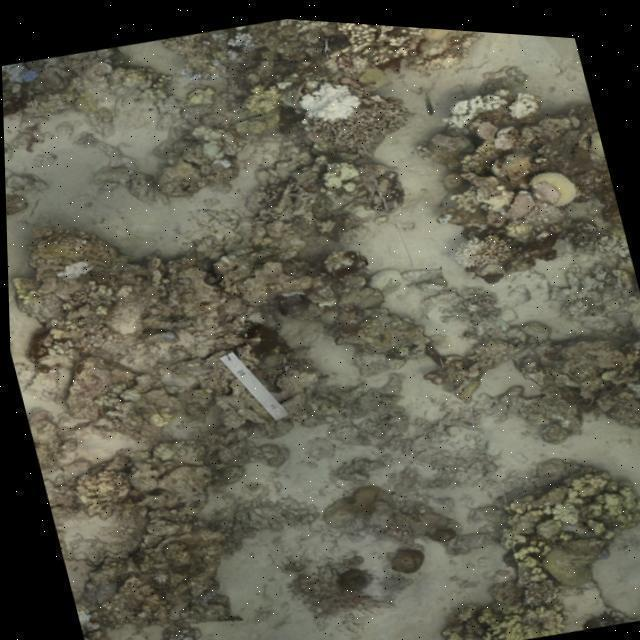Bleached Coral: (286, 62, 371, 137), (427, 79, 504, 131), (501, 79, 548, 119)
